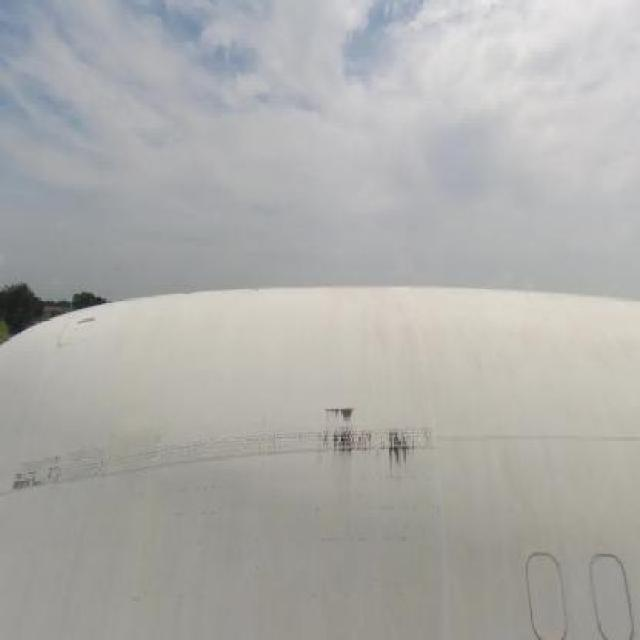Rust: (310, 388, 422, 477)
Scartch: (11, 451, 86, 514)
